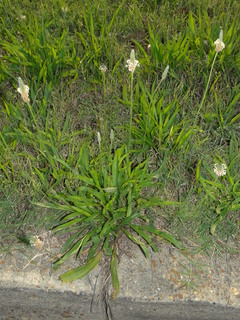buckhorn plantain: (7, 32, 183, 270), (140, 37, 213, 161)
